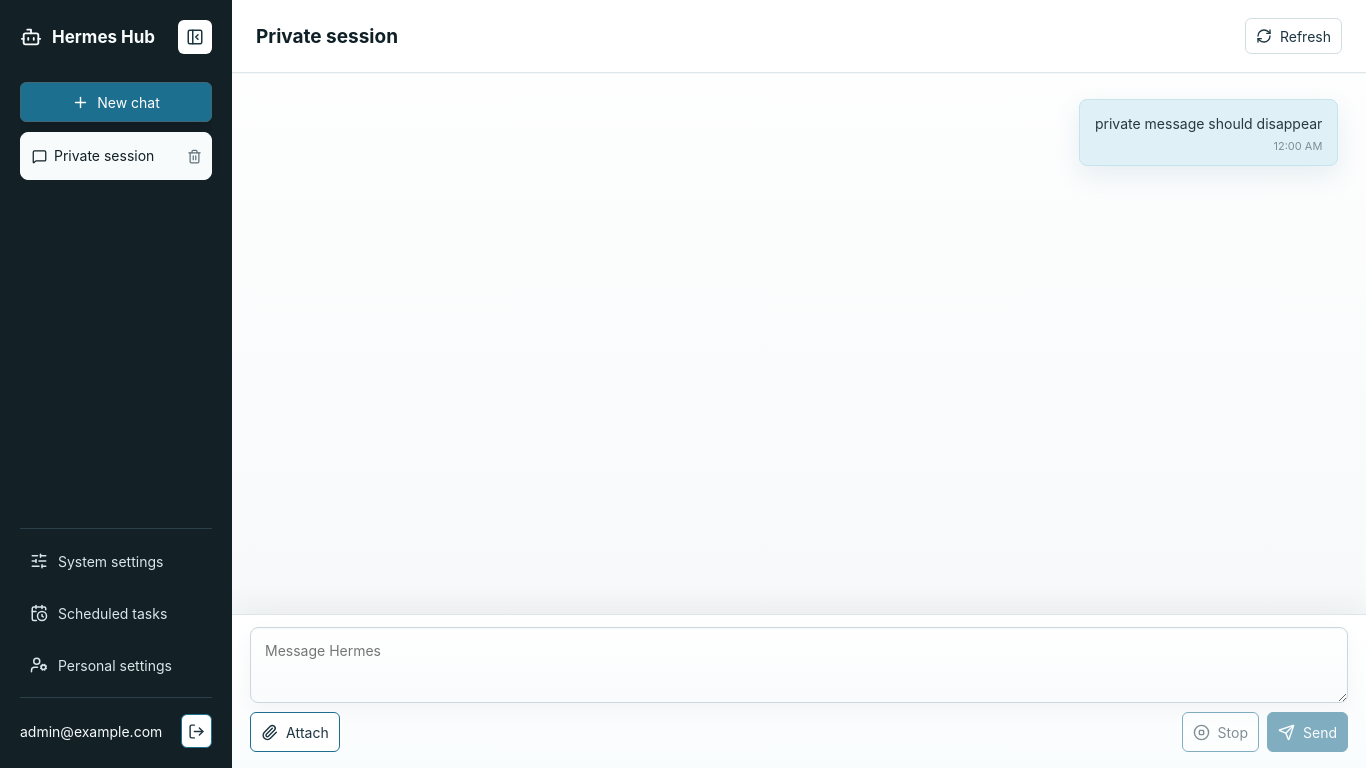
Test case: App › clears authenticated chat sessions after signing out to the public platform
The image size is (1366, 768).
Expected: the button "Private session" is shown, left=21, top=133, right=177, bottom=179
Expected: the text "private message should disappear" is shown, left=1095, top=113, right=1322, bottom=135
Click the button named "Sign out". click: (196, 731)
box: left=181, top=714, right=212, bottom=748
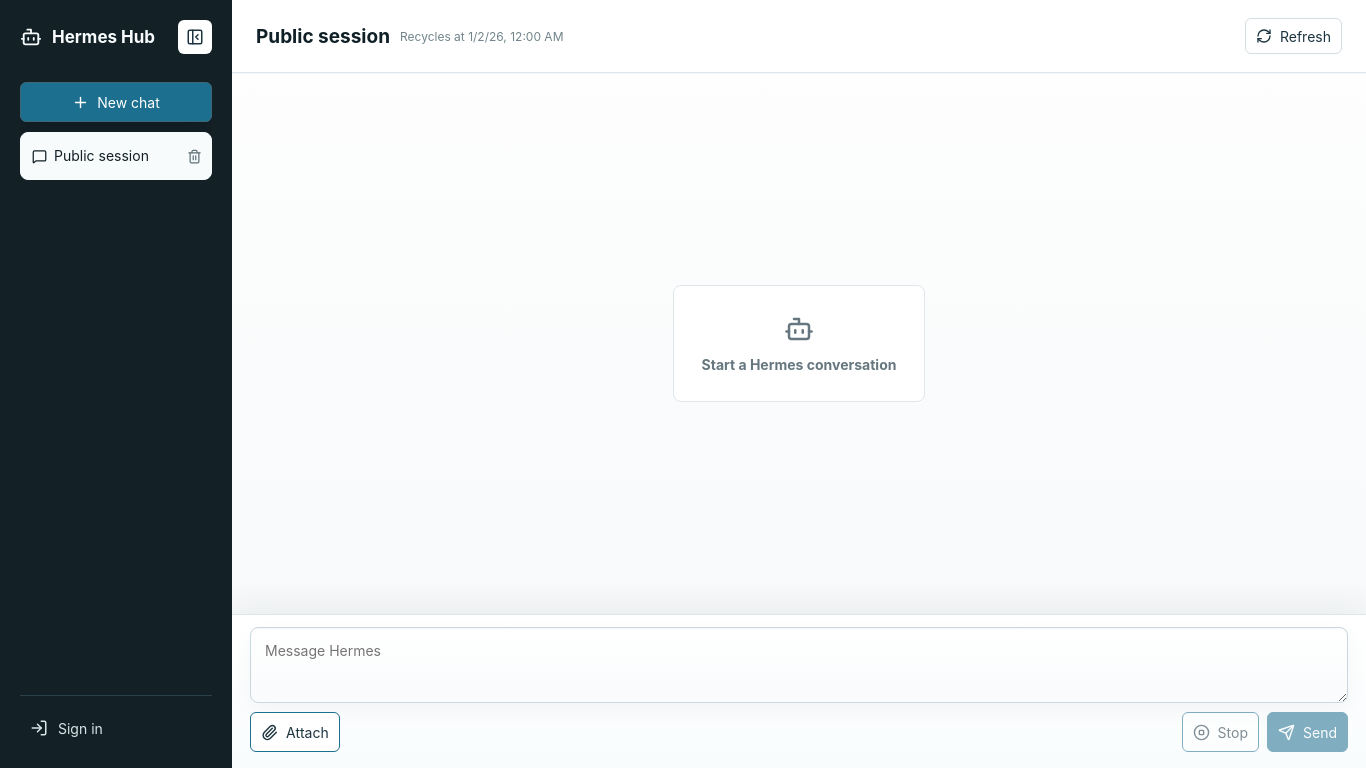
Expected: the button "Sign in" is shown, left=20, top=708, right=212, bottom=748
Expected: the button "Private session" is gone
Expected: the text "private message should disappear" is gone
